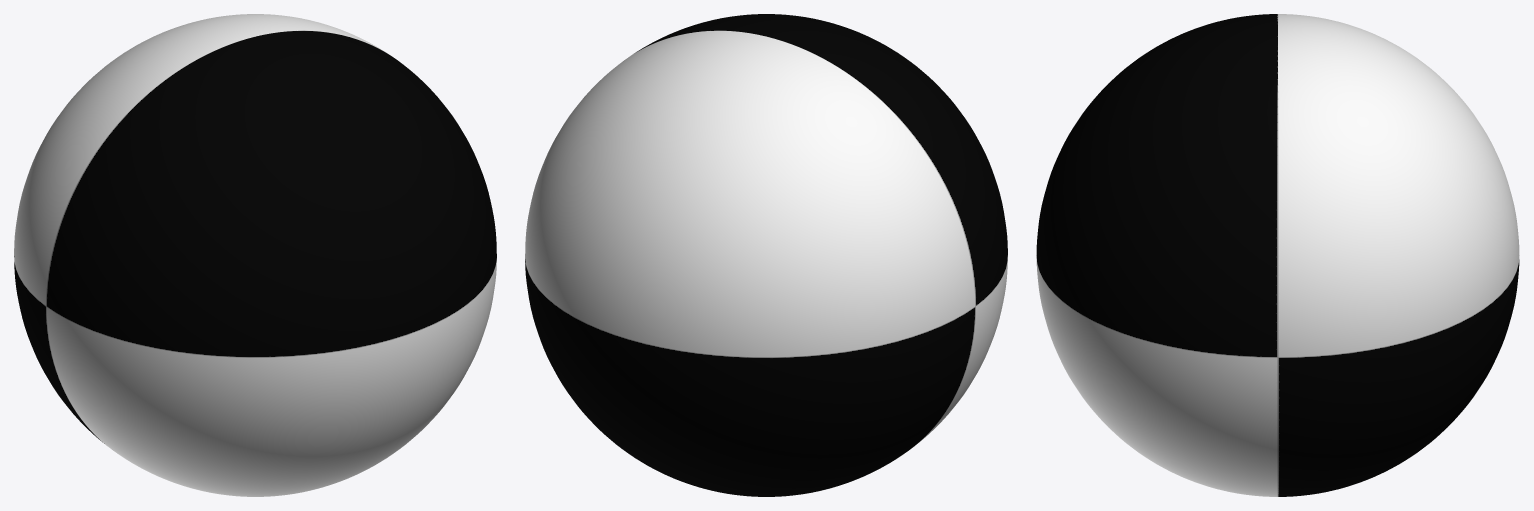
File: badbuffer.gltf
The picture shows the model from 3 angles, left to right: view 1: azimuth 30°, elevation 25°; view 2: azimuth 150°, elevation 25°; view 3: azimuth 270°, elevation 25°; orthographic projection.
Parts seen in each view (by area): view 1: Sphere; view 2: Sphere; view 3: Sphere.
Part boxes in pixels (box(x1,y1,x2,y2)): Sphere: box(14, 14, 496, 496); Sphere: box(525, 14, 1007, 496); Sphere: box(1036, 14, 1519, 496).
Bounding box in the file's own units: 1 × 1 × 1.
1 material, 1 textured.
